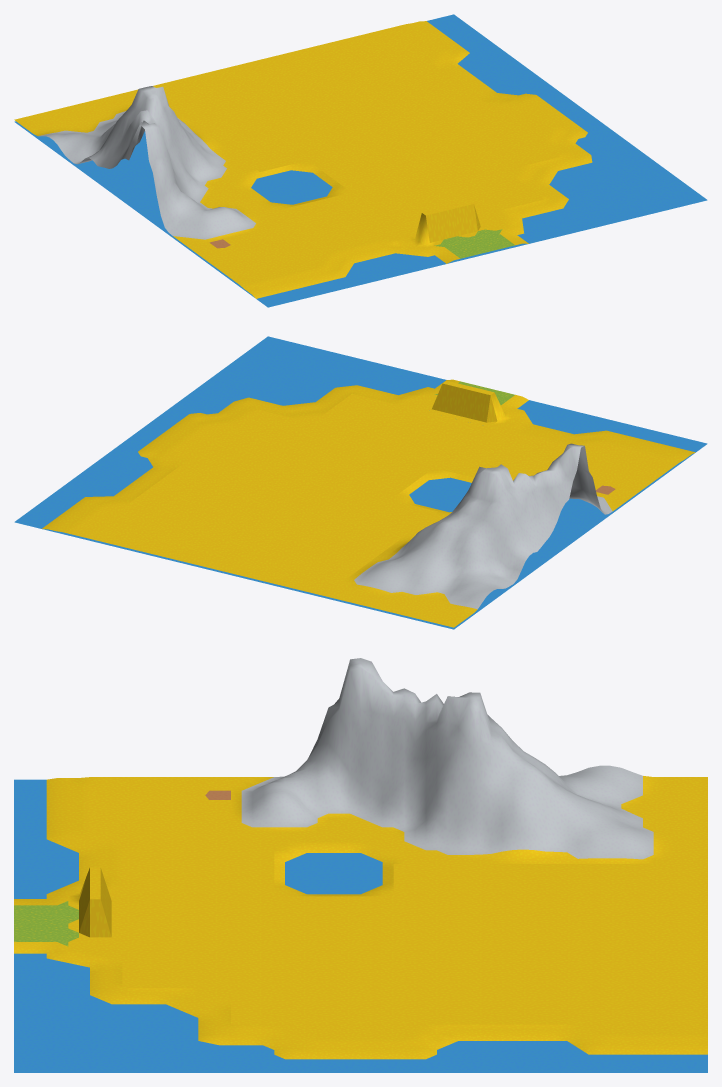
Rendered from environment.glb.
3 views of the same model, one above another, from view 1: azimuth 30°, elevation 25°; view 2: azimuth 150°, elevation 25°; view 3: azimuth 270°, elevation 25° (orthographic). The views are drawn at different scales.
Parts seen in each view (by area): view 1: Seg-486-510; view 2: Seg-486-510; view 3: Seg-486-510.
Boxes of the visible parts, x1=… form: Seg-486-510: x1=14, y1=14, x2=707, y2=307; Seg-486-510: x1=14, y1=336, x2=707, y2=629; Seg-486-510: x1=14, y1=658, x2=707, y2=1072.
Bounding box in the file's own units: 64 × 12.48 × 64.
6 materials, 6 textured.
